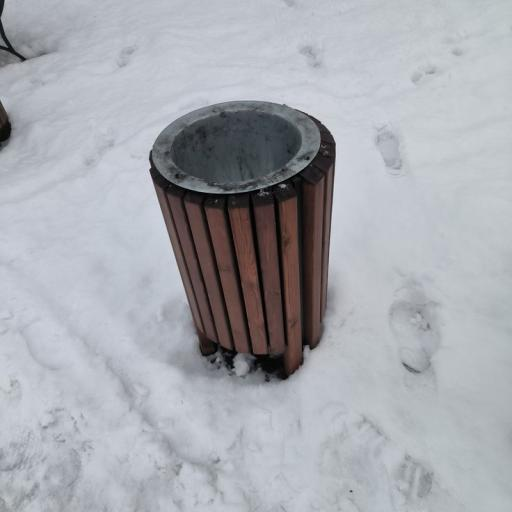traffic_light: (151, 101, 335, 374)
